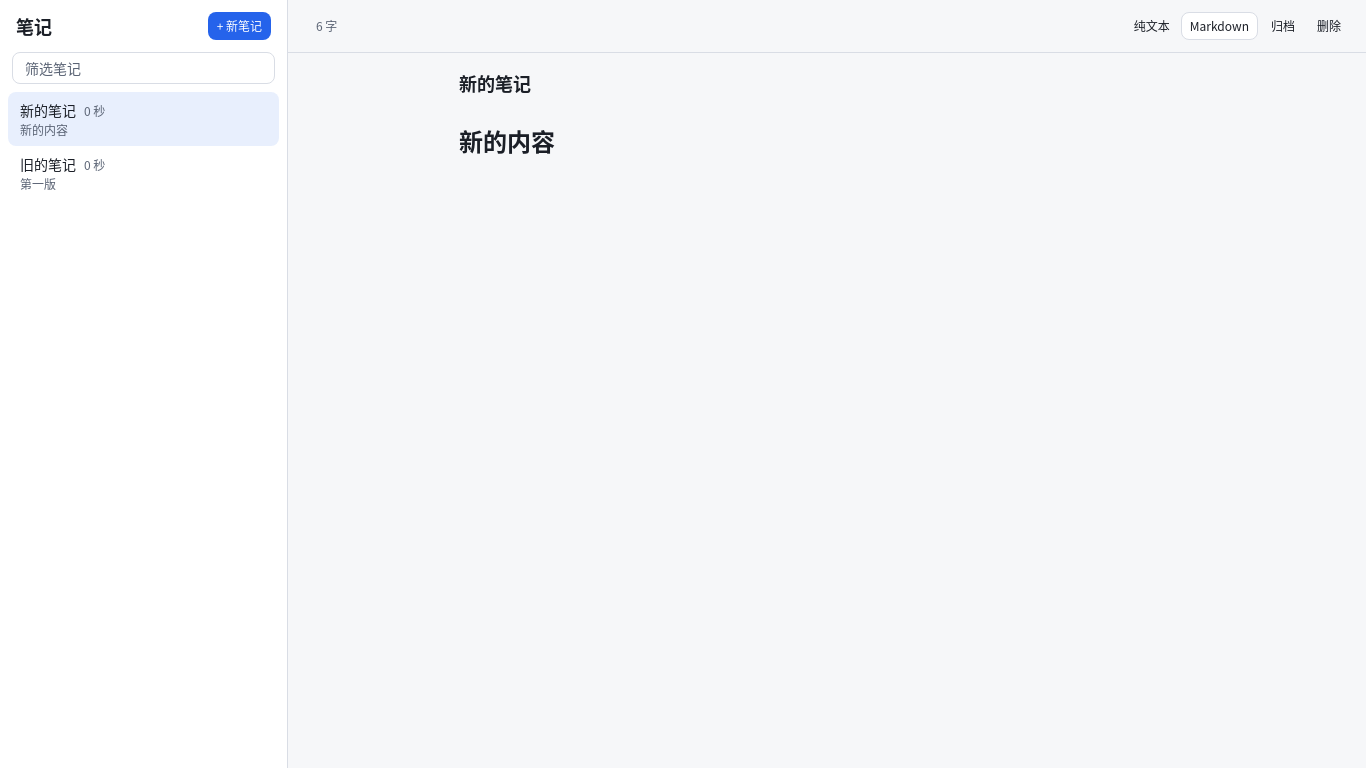
Test case: NotesPage › 按最近更新排序，默认打开最近更新的一篇，点击切换
The width and height of the screenshot is (1366, 768).
expect the field named "标题" holds "新的笔记": met, box [459, 69, 1195, 97]
Click the button "旧的笔记 0 秒 第一版": click(48, 164) [8, 146, 279, 200]
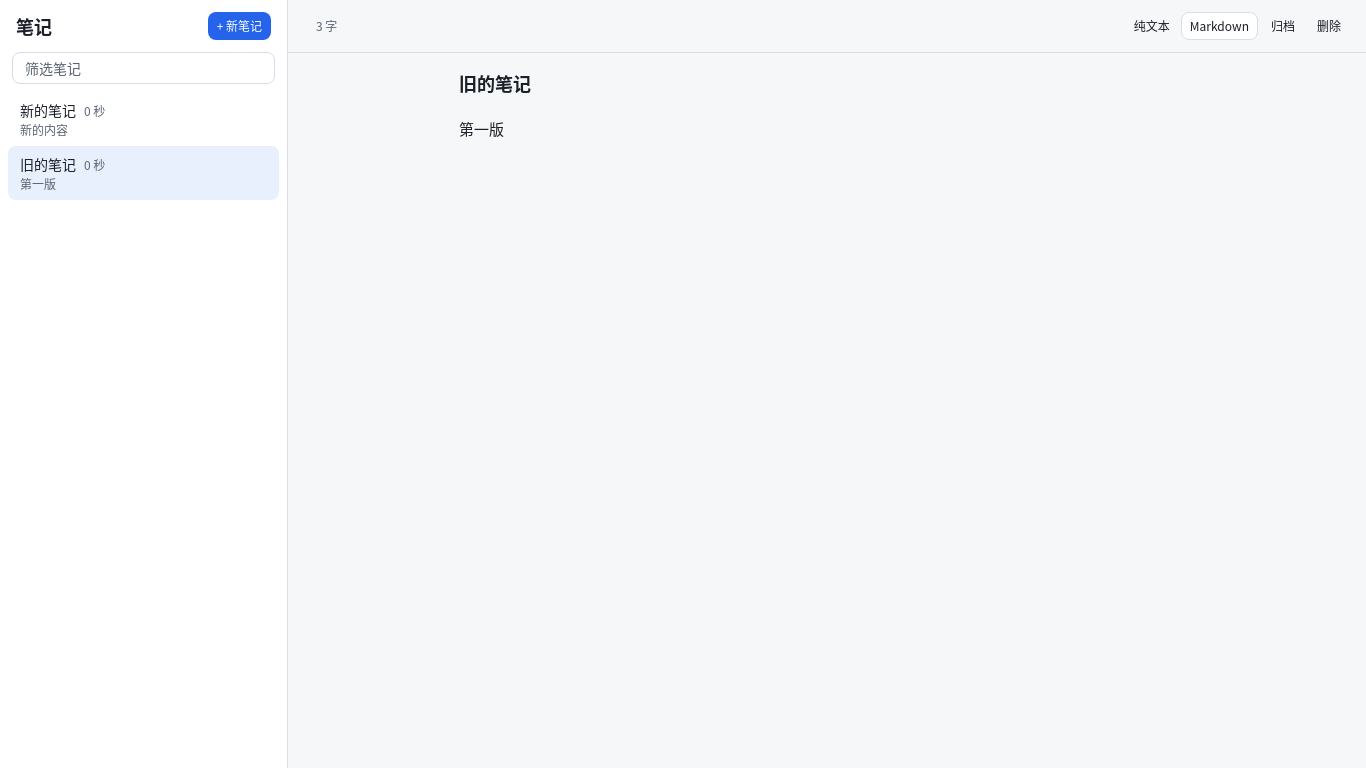
expect the text "第一版" is shown: met, box [20, 176, 56, 192]
expect the field named "标题" holds "旧的笔记": met, box [459, 69, 1195, 97]
